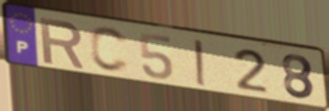2: (232, 47, 270, 95)
5: (138, 31, 175, 81)
8: (280, 53, 315, 101)
C: (88, 25, 132, 75)
I: (192, 38, 209, 89)
R: (38, 15, 87, 71)
